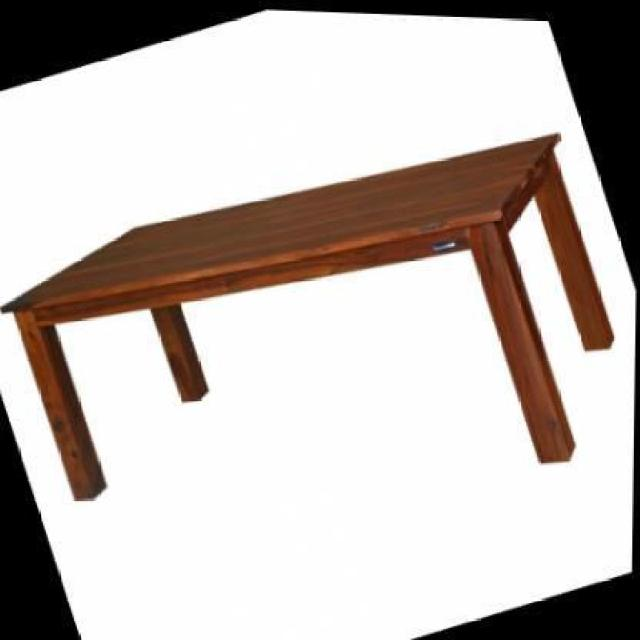tables: (0, 129, 615, 500)
